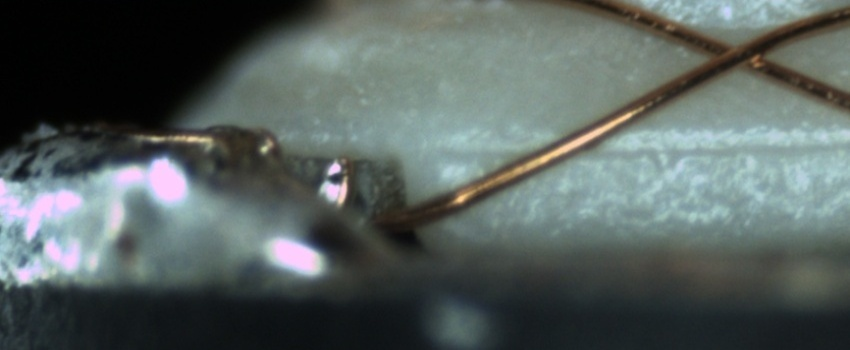CL: (693, 23, 792, 79)
DL: (436, 115, 849, 181)
TE: (128, 122, 357, 211)
